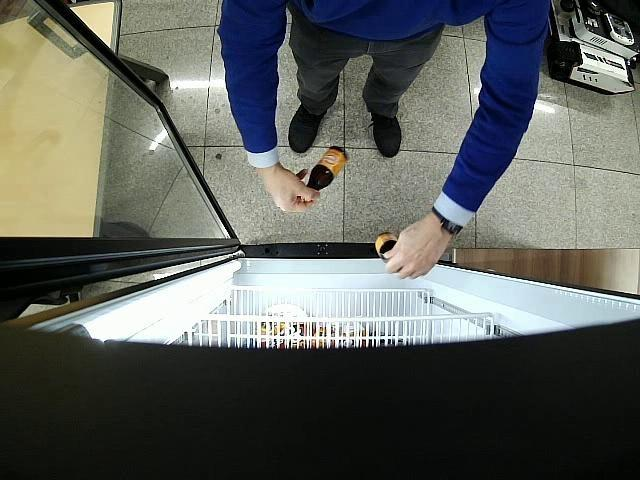17_vita500: (300, 145, 348, 201), (376, 232, 398, 262)
